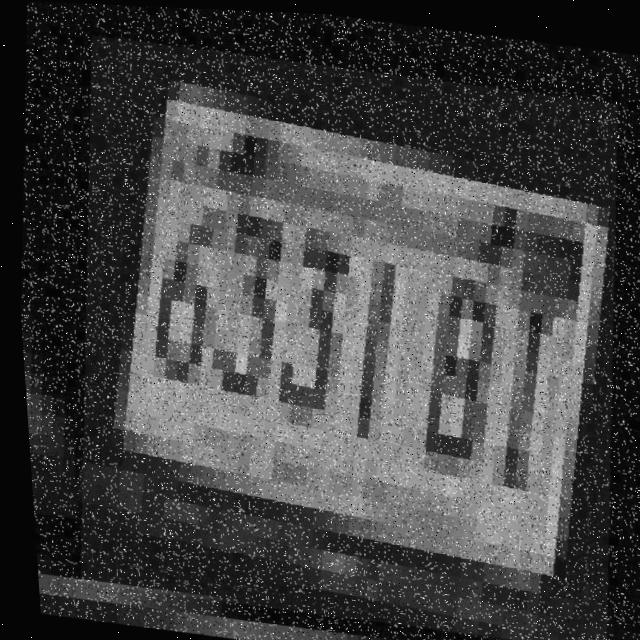LicensePlate: (43, 32, 640, 640)
